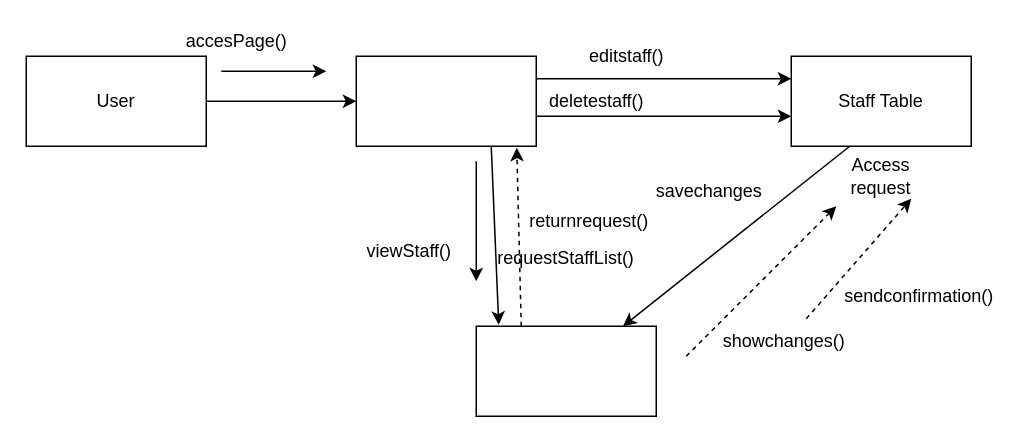
Image size: 1028x443. Some labels were removed from this diagram. The shapes that lost their labels are listed below. From the top down, each one's box as (x1, y1, x2, y2) in pixels, then its label:
(355, 55, 536, 146): Staff
(475, 325, 656, 416): Server
